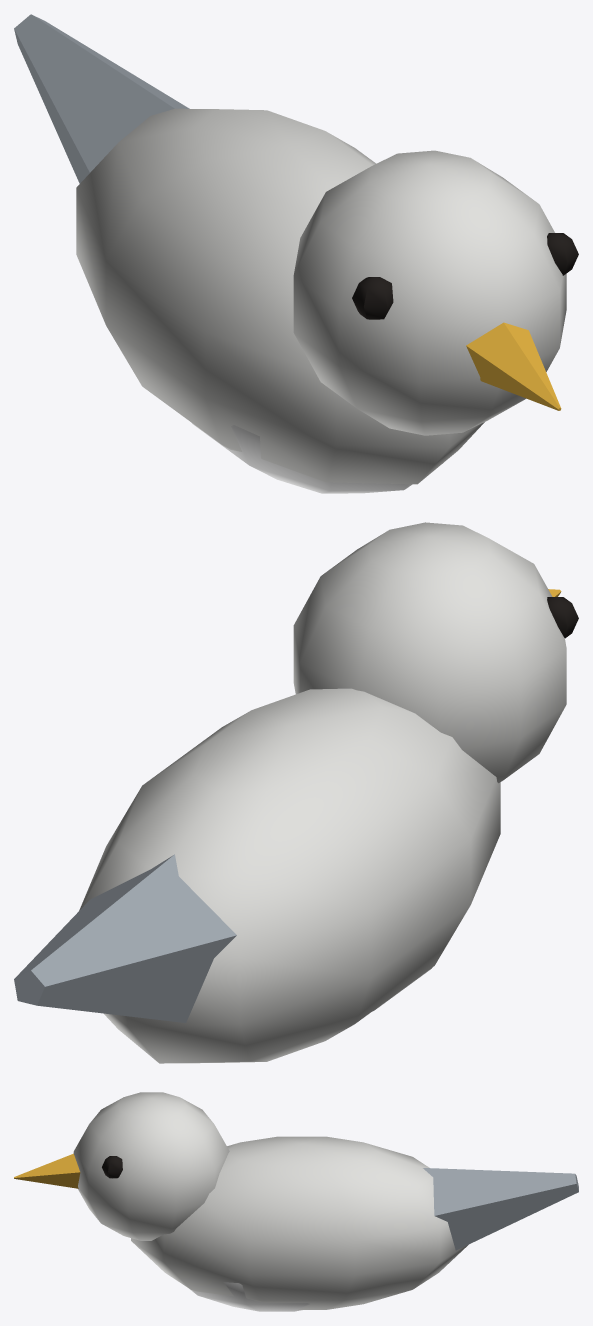
Rendered from Gull_Body.fbx.
The picture shows the model from 3 angles, top to bottom: view 1: azimuth 30°, elevation 25°; view 2: azimuth 150°, elevation 25°; view 3: azimuth 270°, elevation 25°; orthographic projection. The views are drawn at different scales.
Parts seen in each view (by area): view 1: Gull_Body_EXP; view 2: Gull_Body_EXP; view 3: Gull_Body_EXP.
Part boxes in pixels (left/top/right/bottom): Gull_Body_EXP: left=14, top=14, right=578, bottom=493; Gull_Body_EXP: left=14, top=522, right=578, bottom=1063; Gull_Body_EXP: left=14, top=1092, right=578, bottom=1311.
Bounding box in the file's own units: 0.1688 × 0.2366 × 0.5869.
